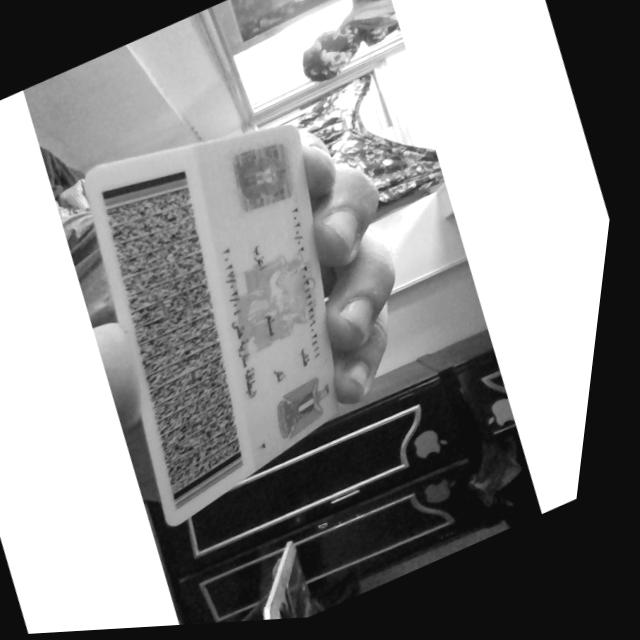back: (86, 124, 336, 524)
